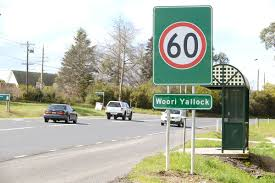sp60: (156, 21, 208, 70)
